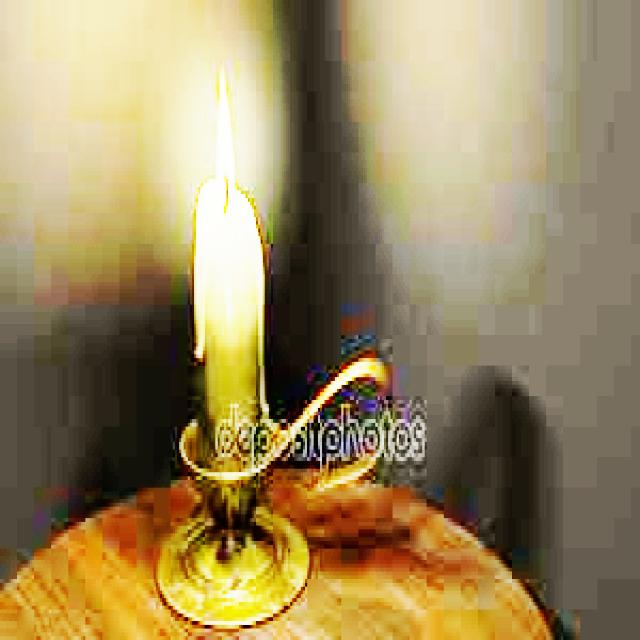api: (208, 66, 242, 211)
